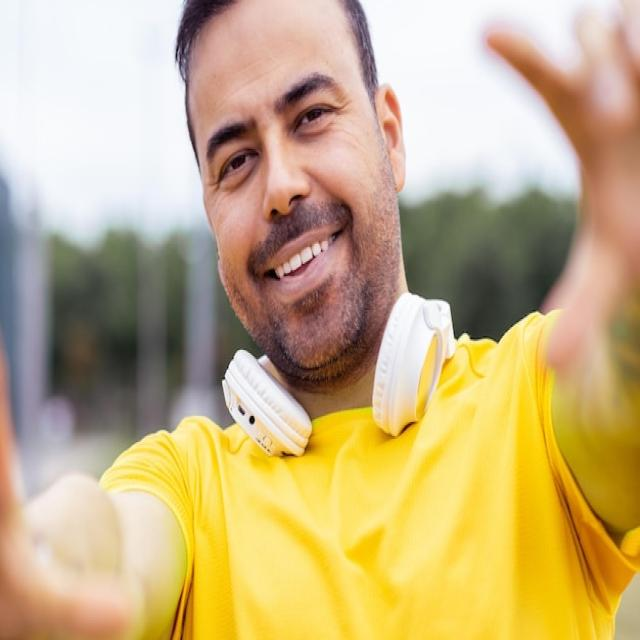Headphone: (222, 292, 458, 460)
